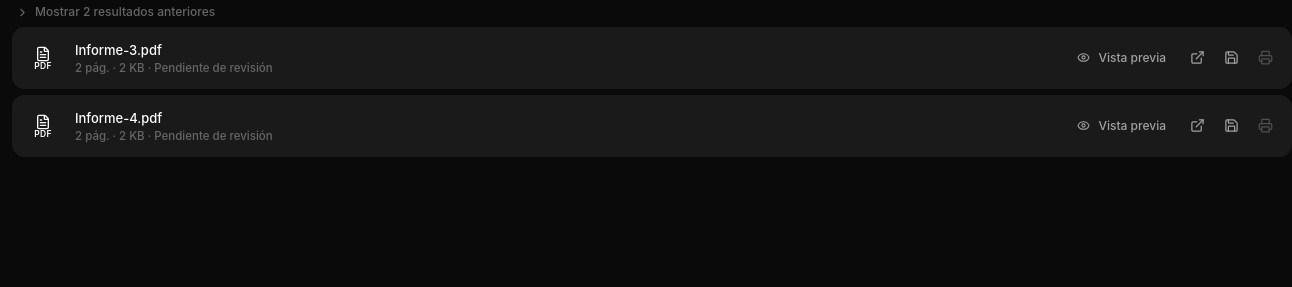
Test: muestra los resultados recientes y pliega los anteriores en lugar de apilarlos
Expected: the element named "Documento Informe-4.pdf" is shown, [12,95,1291,157]
What coordinates should you click on to do the following:
click the button "Mostrar 2 resultados anteriores"
I would click on:
 (116, 12)
Its box is [12,4,219,21].
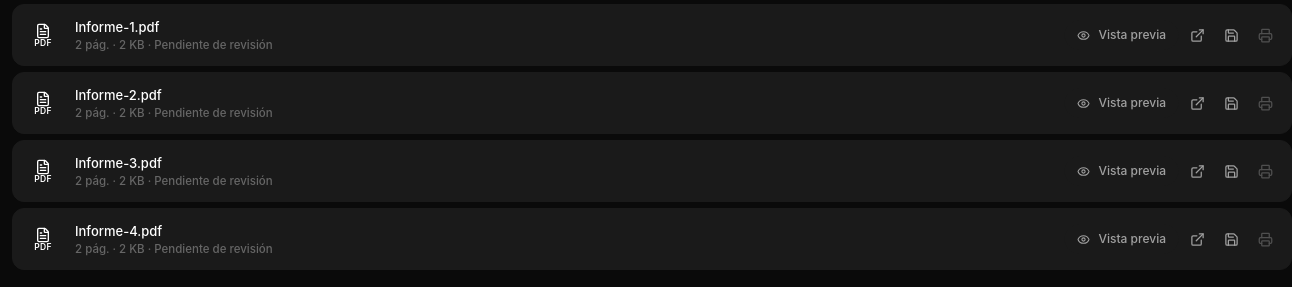
Expected: the number of elements named "Documento Informe" is 4, [12,4,1291,66]; [12,72,1291,134]; [12,140,1291,202]; [12,208,1291,270]
